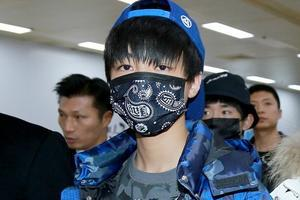NONE: (59, 105, 100, 151), (250, 98, 281, 128)
OK: (108, 48, 192, 132), (200, 109, 241, 151)
